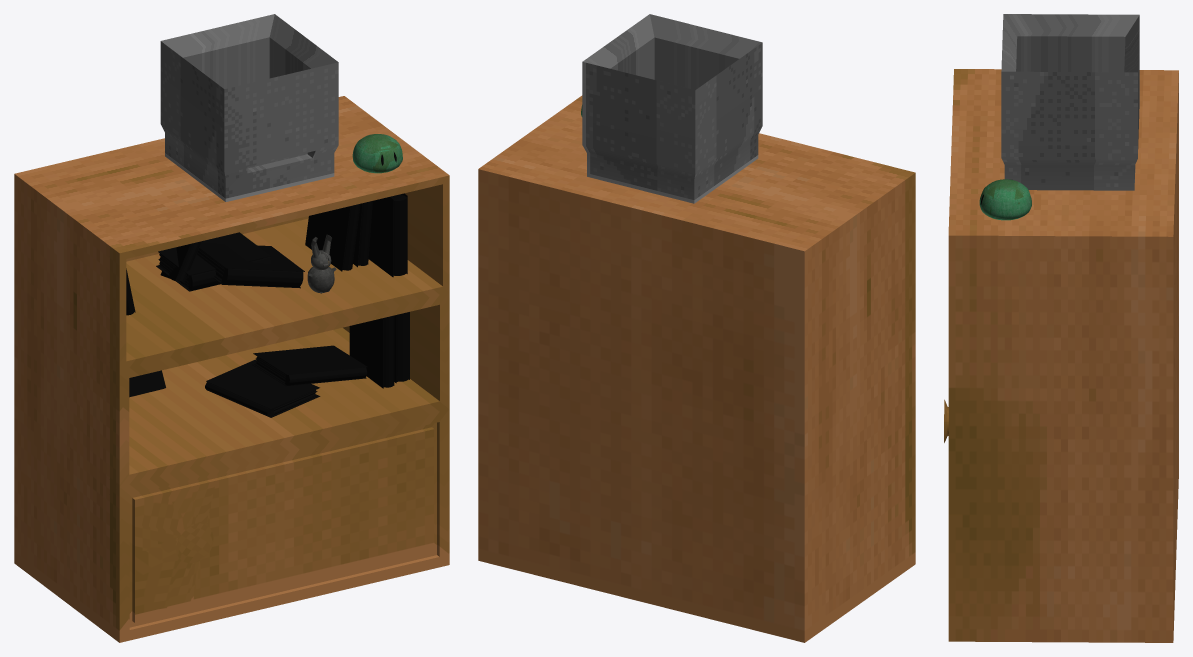
File: armadio_libri_neri.fbx
3 views of the same model, side by side, from view 1: azimuth 30°, elevation 25°; view 2: azimuth 150°, elevation 25°; view 3: azimuth 270°, elevation 25° (orthographic). The views are drawn at different scales.
Parts seen in each view (by area): view 1: Libreria_Armadio1, Scatola_Vestiti, BOOK20, BOOK11, BOOK16, BOOK14, BOOK19, BOOK13, BOOK10, dango1, BOOK18, BOOK15 (+2 smaller); view 2: Libreria_Armadio1, Scatola_Vestiti; view 3: Libreria_Armadio1, Scatola_Vestiti, dango1.
Boxes of the visible parts, <box> form: Libreria_Armadio1: <box>14,96,449,642</box>; Scatola_Vestiti: <box>160,14,338,201</box>; BOOK20: <box>252,345,367,386</box>; BOOK11: <box>205,359,320,417</box>; BOOK16: <box>197,243,304,288</box>; BOOK14: <box>368,193,407,277</box>; BOOK19: <box>349,315,394,388</box>; BOOK13: <box>305,203,360,271</box>; BOOK10: <box>156,232,270,291</box>; dango1: <box>352,134,402,173</box>; BOOK18: <box>394,312,409,383</box>; BOOK15: <box>353,201,372,267</box>; Libreria_Armadio1: <box>478,95,915,642</box>; Scatola_Vestiti: <box>582,14,762,203</box>; Libreria_Armadio1: <box>944,69,1178,642</box>; Scatola_Vestiti: <box>1001,14,1139,190</box>; dango1: <box>979,179,1031,220</box>.
Size of the model in its own units: 16.27 by 23.78 by 9.61.
6 materials, 5 textured.
